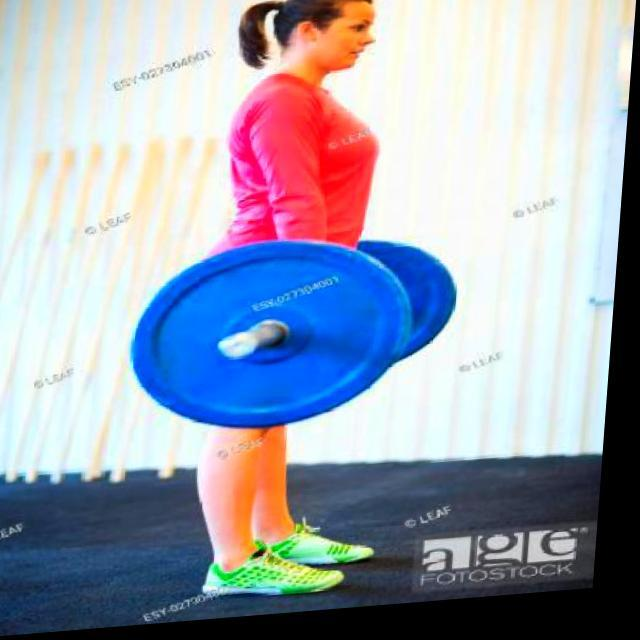barbell: (124, 232, 430, 450)
